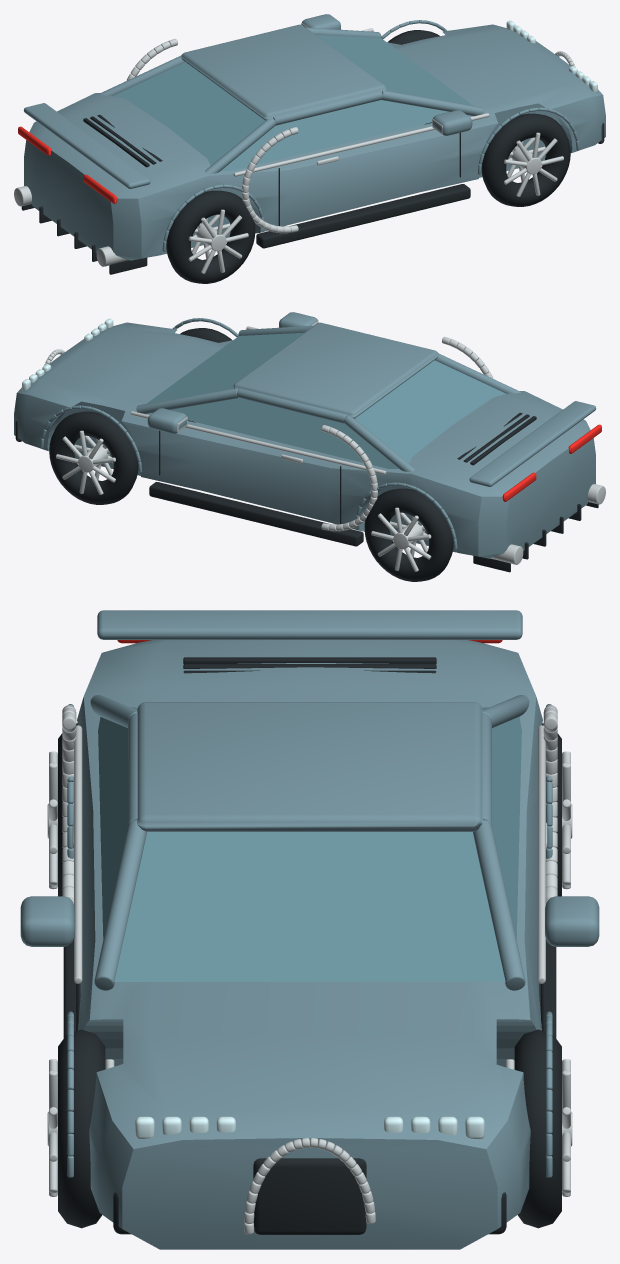
Rendered from ChimeraC.fbx.
The picture shows the model from 3 angles, top to bottom: view 1: azimuth 30°, elevation 25°; view 2: azimuth 150°, elevation 25°; view 3: azimuth 270°, elevation 25°; orthographic projection. The views are drawn at different scales.
Visible parts, largest first — view 1: BodyPaint, Glazing, TrimRubber, TrimRubber.002, TrimRubber.001, BrushedAlloy, BrushedAlloy.001, BrushedAlloy.002, Taillamp, Headlamp, TrimRubber.004; view 2: BodyPaint, Glazing, TrimRubber, TrimRubber.004, TrimRubber.003, BrushedAlloy, BrushedAlloy.003, BrushedAlloy.004, Taillamp, Headlamp, TrimRubber.002; view 3: BodyPaint, Glazing, TrimRubber, BrushedAlloy, TrimRubber.004, TrimRubber.002, Headlamp, BrushedAlloy.004, BrushedAlloy.002, BrushedAlloy.001, BrushedAlloy.003.
Part boxes in pixels (bbox=[...]): BodyPaint: bbox=[23, 14, 605, 260]; Glazing: bbox=[113, 34, 473, 170]; TrimRubber: bbox=[21, 114, 604, 274]; TrimRubber.002: bbox=[481, 113, 570, 206]; TrimRubber.001: bbox=[166, 190, 255, 283]; BrushedAlloy: bbox=[14, 22, 575, 266]; BrushedAlloy.001: bbox=[188, 209, 248, 273]; BrushedAlloy.002: bbox=[504, 132, 563, 196]; Taillamp: bbox=[18, 126, 117, 203]; Headlamp: bbox=[506, 20, 597, 92]; TrimRubber.004: bbox=[387, 30, 439, 44]; BodyPaint: bbox=[14, 312, 596, 558]; Glazing: bbox=[146, 332, 506, 468]; TrimRubber: bbox=[15, 412, 598, 572]; TrimRubber.004: bbox=[49, 411, 138, 504]; TrimRubber.003: bbox=[364, 488, 453, 581]; BrushedAlloy: bbox=[44, 320, 605, 564]; BrushedAlloy.003: bbox=[371, 507, 431, 571]; BrushedAlloy.004: bbox=[56, 430, 115, 494]; Taillamp: bbox=[502, 424, 601, 501]; Headlamp: bbox=[22, 318, 113, 390]; TrimRubber.002: bbox=[180, 328, 232, 342]; BodyPaint: bbox=[20, 610, 599, 1249]; Glazing: bbox=[98, 707, 521, 981]; TrimRubber: bbox=[63, 657, 556, 1234]; BrushedAlloy: bbox=[62, 705, 557, 1234]; TrimRubber.004: bbox=[514, 1029, 561, 1228]; TrimRubber.002: bbox=[58, 1029, 105, 1228]; Headlamp: bbox=[135, 1116, 484, 1139]; BrushedAlloy.004: bbox=[505, 1059, 572, 1196]; BrushedAlloy.002: bbox=[47, 1059, 114, 1196]; BrushedAlloy.001: bbox=[47, 751, 57, 889]; BrushedAlloy.003: bbox=[562, 751, 572, 889].
Bounding box in the file's own units: 518 × 137 × 256.
